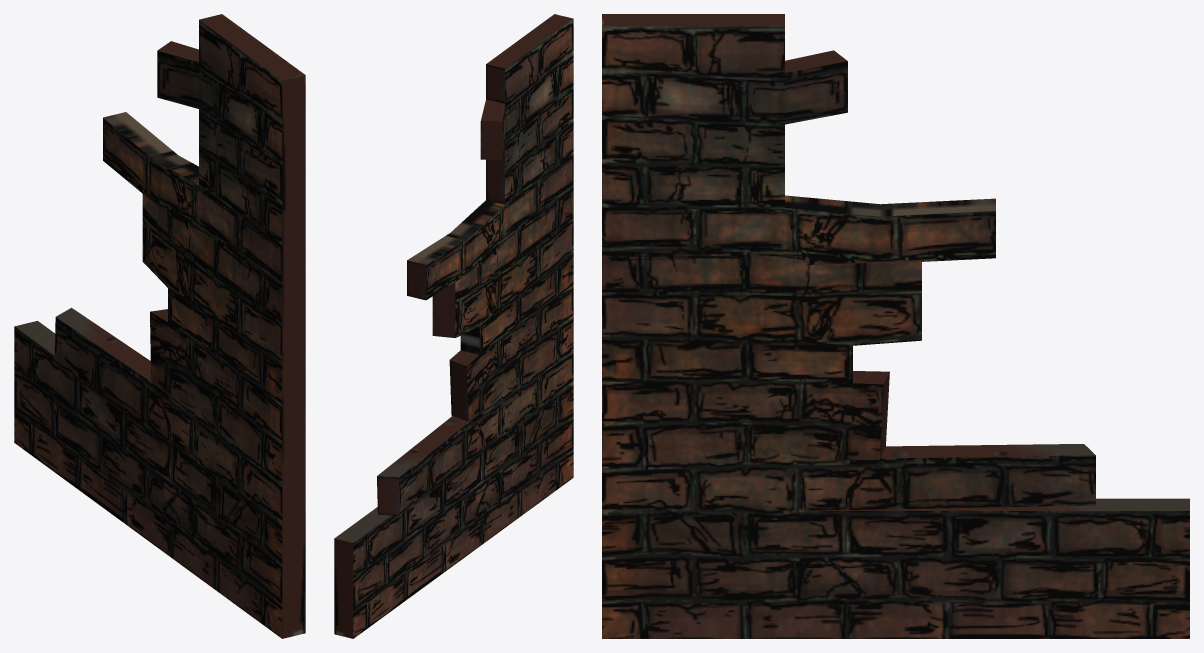
The model's file is BrickBldHoleVer_2.fbx.
The picture shows the model from 3 angles, left to right: view 1: azimuth 30°, elevation 25°; view 2: azimuth 150°, elevation 25°; view 3: azimuth 270°, elevation 25°; orthographic projection. The views are drawn at different scales.
Parts seen in each view (by area): view 1: pCube700; view 2: pCube700; view 3: pCube700.
Part boxes in pixels (x1,y1,x2,y2): pCube700: [14, 14, 305, 638]; pCube700: [334, 14, 573, 638]; pCube700: [602, 14, 1189, 638].
Size of the model in its own units: 0.9707 by 11.5 by 10.
